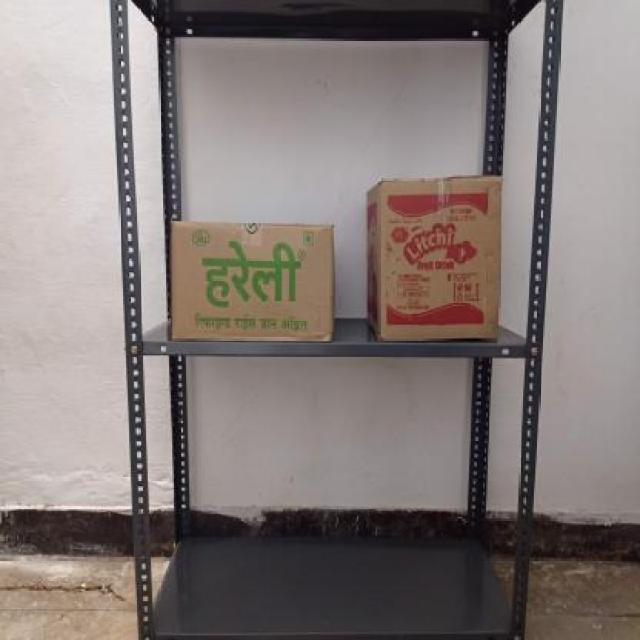box: (168, 220, 336, 338), (378, 179, 500, 341)
